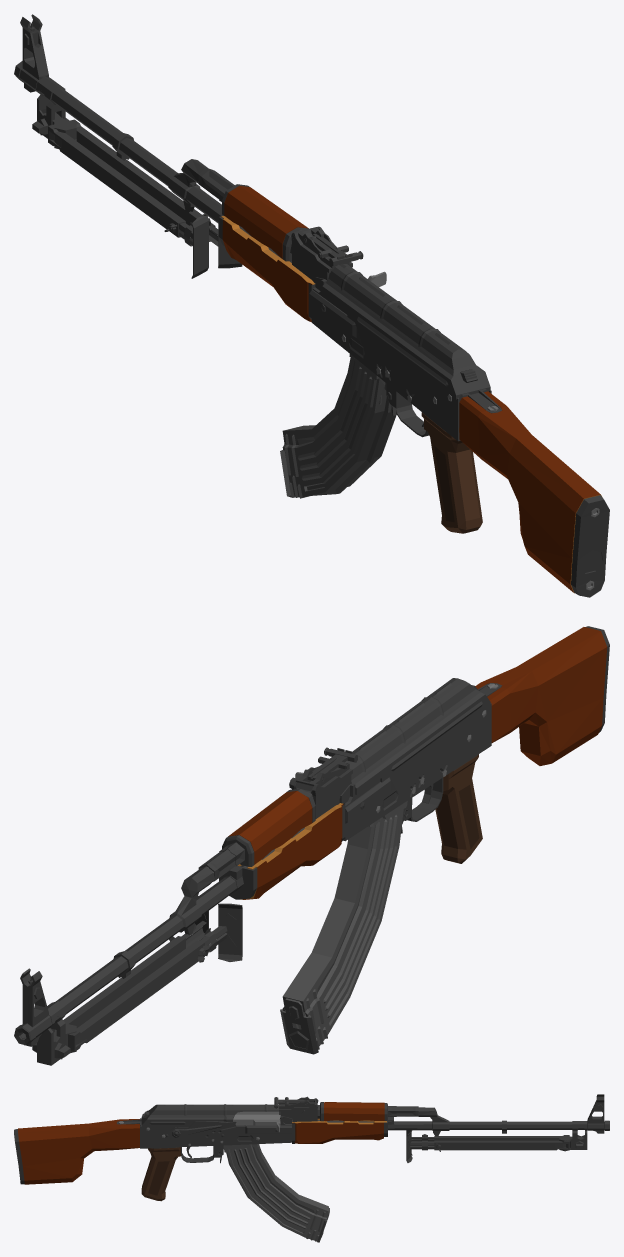
File: Rifle.fbx
The picture shows the model from 3 angles, top to bottom: view 1: azimuth 30°, elevation 25°; view 2: azimuth 150°, elevation 25°; view 3: azimuth 270°, elevation 25°; orthographic projection. The views are drawn at different scales.
Visible parts, largest first — view 1: receiver, stock, body, dust_cover, bipod_L, grip, handguard_lower, handguard_upper, bipod_R, gas_tube, rear_sight; view 2: receiver, body, stock, dust_cover, bipod_L, handguard_lower, grip, handguard_upper, bipod_R, gas_tube, lower_handguard_cover, rear_sight; view 3: receiver, stock, body, dust_cover, handguard_lower, bipod_R, grip, handguard_upper, bipod_L, safety_selector, bolt_carrier, gas_tube (+1 smaller).
Part boxes in pixels (x1,y1,x2,y2): receiver: [19, 14, 501, 441]; stock: [459, 391, 609, 597]; body: [280, 354, 396, 498]; dust_cover: [322, 263, 490, 399]; bipod_L: [48, 124, 215, 278]; grip: [421, 412, 482, 533]; handguard_lower: [221, 216, 315, 321]; handguard_upper: [224, 186, 308, 258]; bipod_R: [70, 119, 242, 268]; gas_tube: [198, 168, 308, 261]; rear_sight: [304, 233, 363, 266]; receiver: [20, 683, 502, 1065]; body: [280, 801, 407, 1054]; stock: [475, 626, 609, 765]; dust_cover: [345, 678, 490, 794]; bipod_L: [68, 903, 242, 1052]; handguard_lower: [238, 803, 343, 899]; grip: [435, 754, 482, 863]; handguard_upper: [228, 791, 312, 864]; bipod_R: [63, 896, 208, 1027]; gas_tube: [198, 789, 315, 881]; lower_handguard_cover: [219, 803, 345, 899]; rear_sight: [307, 747, 357, 780]; receiver: [116, 1094, 604, 1162]; stock: [14, 1119, 139, 1184]; body: [223, 1144, 329, 1242]; dust_cover: [141, 1104, 280, 1127]; handguard_lower: [292, 1118, 386, 1143]; bipod_R: [406, 1130, 569, 1162]; grip: [141, 1147, 181, 1201]; handguard_upper: [324, 1102, 384, 1121]; bipod_L: [406, 1130, 569, 1155]; safety_selector: [170, 1121, 236, 1139]; bolt_carrier: [233, 1111, 280, 1132]; gas_tube: [317, 1102, 418, 1121].
Size of the model in its own units: 7.63 by 28.59 by 107.
